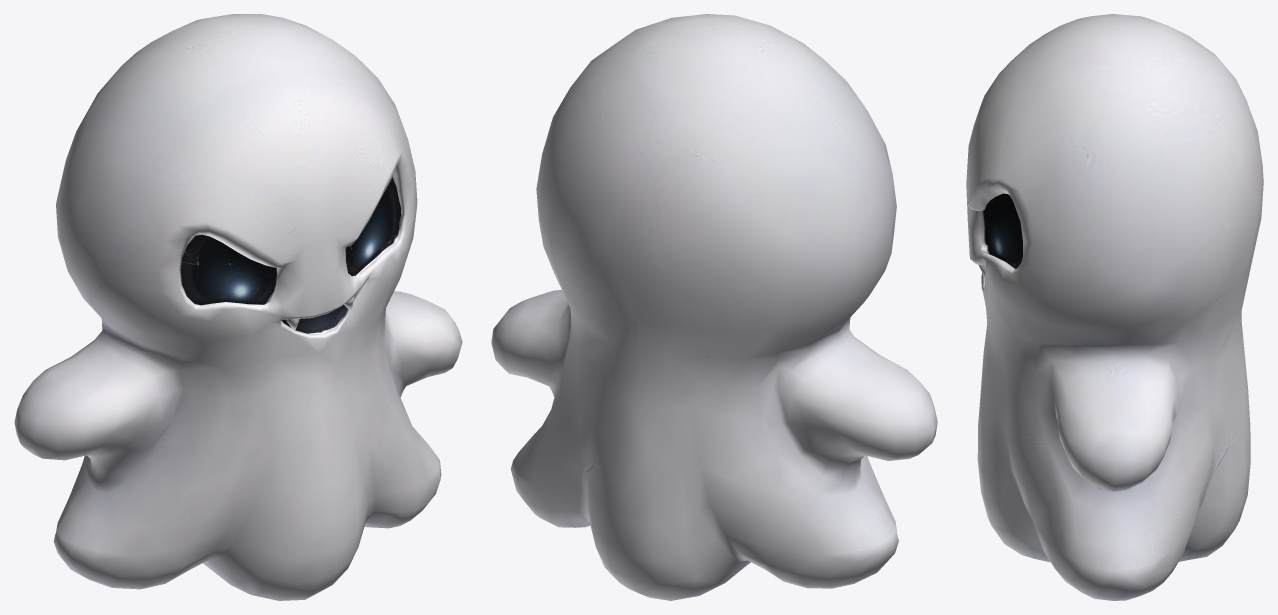
The model's file is ghost.glb.
3 views of the same model, side by side, from view 1: azimuth 30°, elevation 25°; view 2: azimuth 150°, elevation 25°; view 3: azimuth 270°, elevation 25° (orthographic). The views are drawn at different scales.
Bounding box in the file's own units: 0.7988 × 0.9507 × 0.4927.
1 material, 1 textured.
